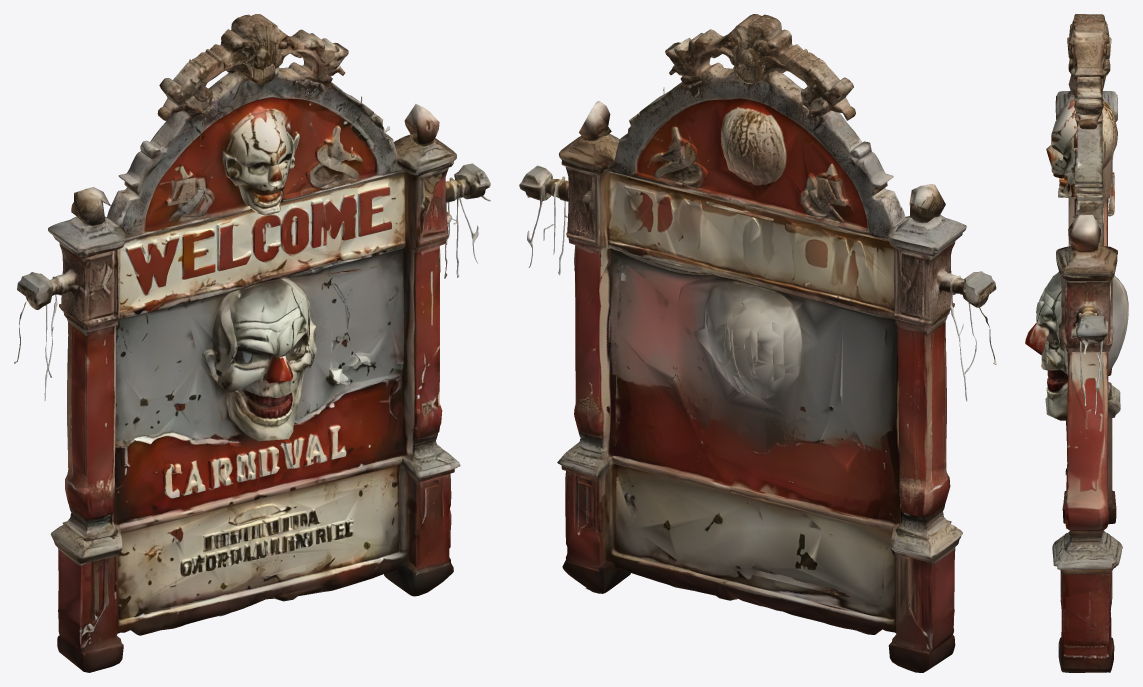
Rendered from welcome_sign.glb.
3 views of the same model, side by side, from view 1: azimuth 30°, elevation 25°; view 2: azimuth 150°, elevation 25°; view 3: azimuth 270°, elevation 25° (orthographic). The views are drawn at different scales.
Parts seen in each view (by area): view 1: Object_2; view 2: Object_2; view 3: Object_2.
Boxes of the visible parts, <box> form: Object_2: <box>14,14,490,672</box>; Object_2: <box>519,14,996,672</box>; Object_2: <box>1025,14,1128,672</box>.
Bounding box in the file's own units: 1.56 × 1.89 × 0.307.
1 material, 1 textured.
